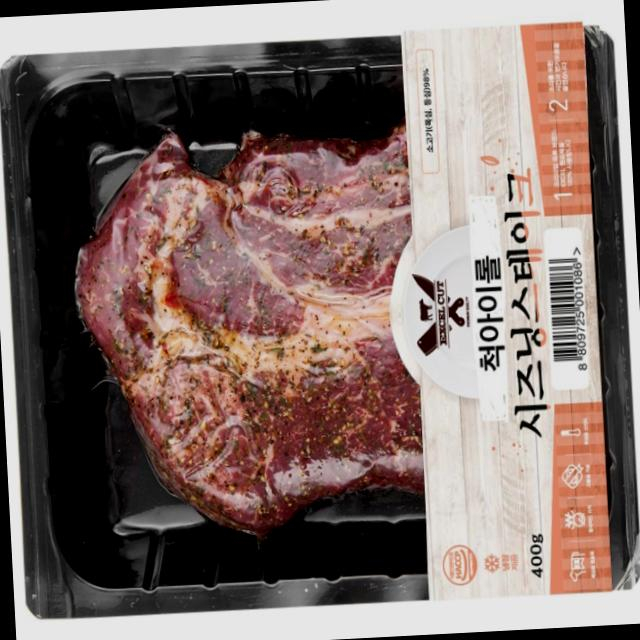beef: (68, 129, 419, 534)
